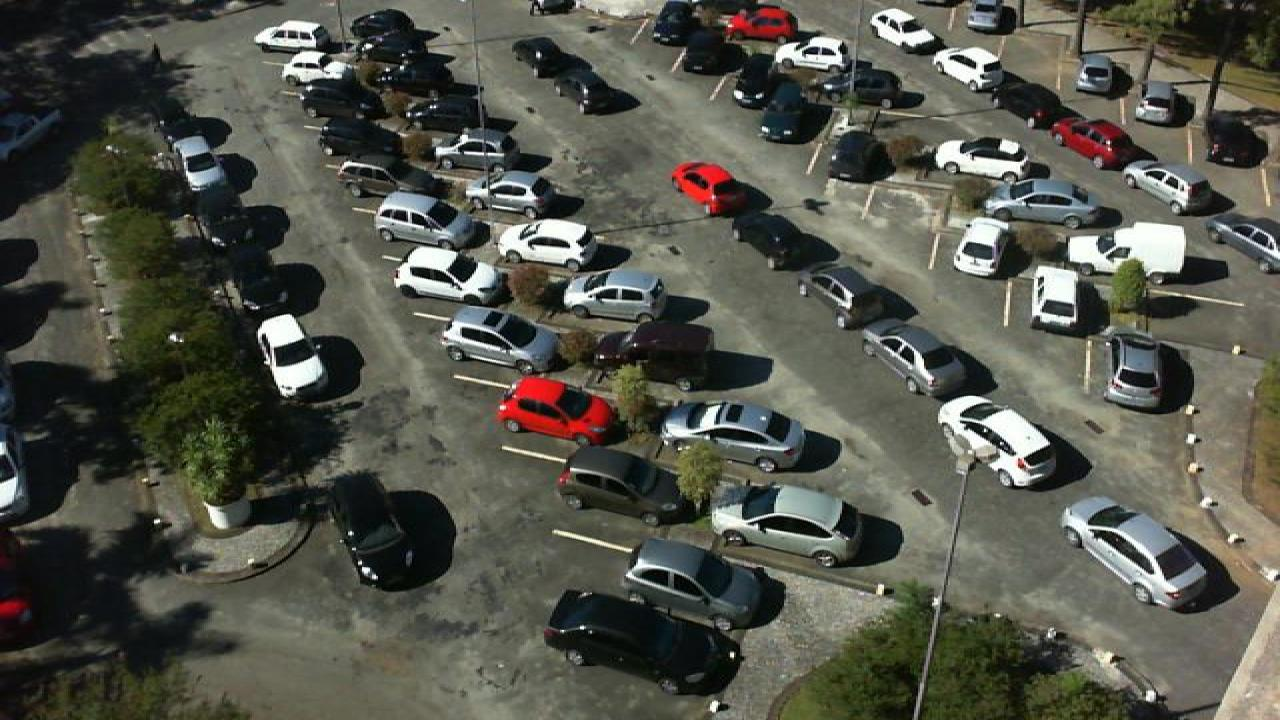Car: (540, 589, 740, 696), (1058, 495, 1212, 614), (620, 537, 770, 632), (710, 481, 868, 566), (324, 470, 422, 585), (654, 399, 806, 472), (936, 396, 1054, 489), (554, 447, 688, 524), (586, 322, 716, 392), (494, 377, 624, 447), (438, 304, 564, 374), (858, 324, 966, 397), (254, 312, 328, 400), (1064, 222, 1184, 276), (796, 265, 888, 332), (374, 192, 480, 250), (730, 212, 834, 270), (392, 248, 500, 302), (1120, 160, 1222, 217), (982, 180, 1102, 228), (1046, 117, 1152, 171), (562, 270, 668, 323), (496, 218, 598, 270), (932, 136, 1034, 185), (1104, 328, 1162, 410), (1032, 264, 1096, 336), (202, 186, 276, 248), (232, 245, 296, 316), (668, 161, 746, 218), (466, 170, 556, 217), (428, 127, 518, 173), (758, 81, 822, 143), (988, 82, 1070, 130), (952, 215, 1014, 278), (554, 65, 630, 115), (336, 156, 422, 200), (1210, 218, 1280, 272), (932, 48, 1010, 92), (1202, 116, 1268, 168), (870, 8, 946, 52), (408, 90, 490, 128), (168, 135, 222, 191), (828, 130, 888, 180), (730, 56, 786, 109), (1130, 81, 1194, 127), (318, 119, 390, 159), (300, 82, 370, 122), (1074, 51, 1132, 99), (280, 50, 356, 86), (774, 38, 850, 73), (252, 19, 330, 53), (682, 33, 744, 74), (840, 66, 902, 107), (726, 4, 796, 40), (368, 39, 442, 73), (376, 64, 458, 94), (648, 0, 700, 46), (512, 37, 574, 75), (350, 9, 416, 42), (154, 99, 200, 143), (962, 0, 1016, 35)
